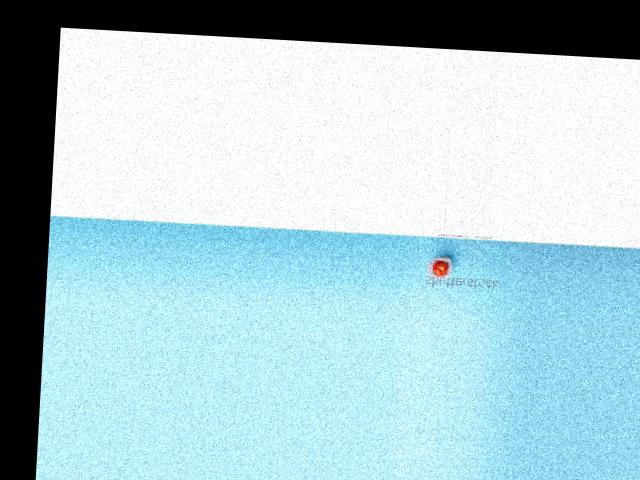tomato: (433, 260, 449, 276)
